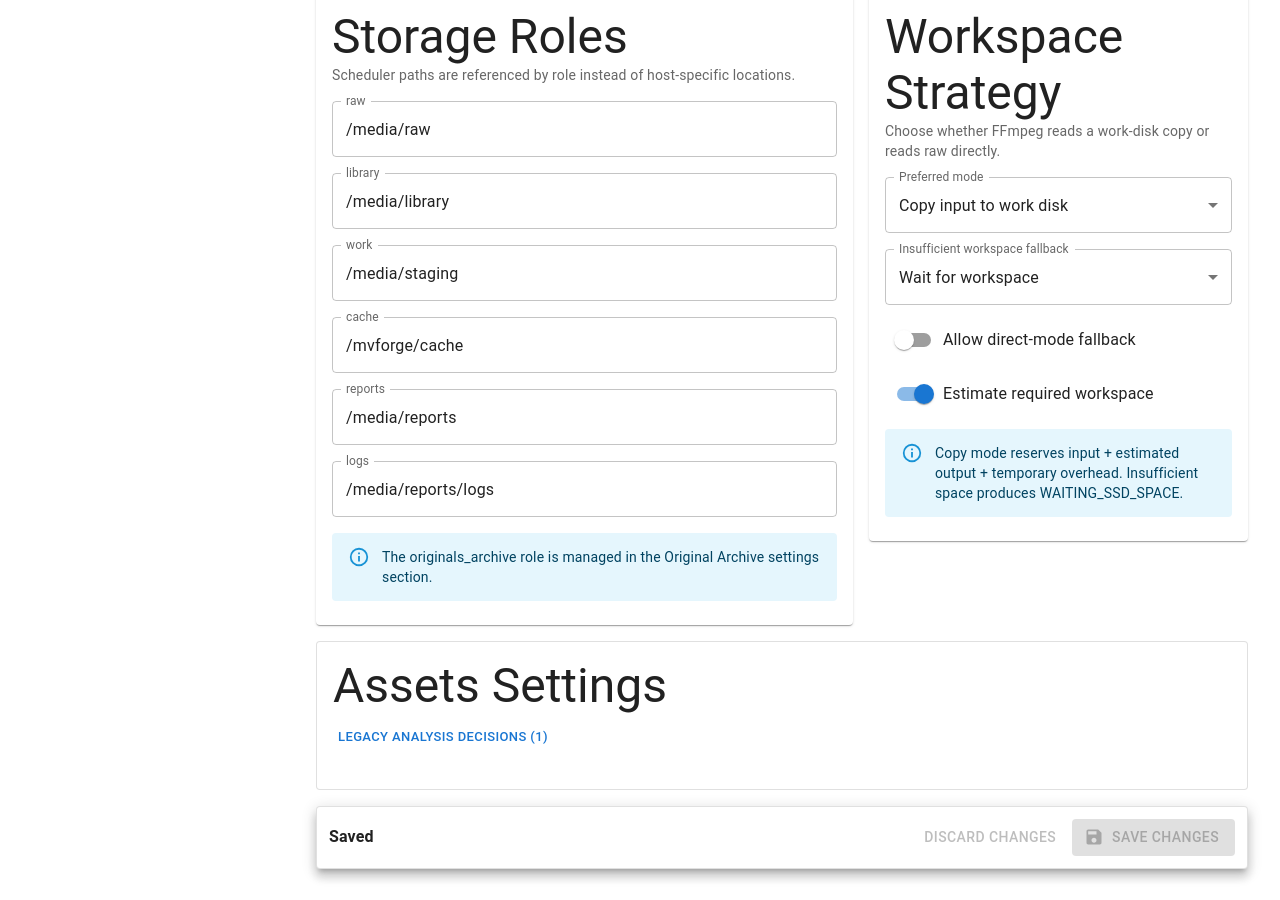
Test: Assets Settings historical analysis decisions › keeps preserved Legacy Analysis Decisions reachable under Assets Settings
(page scrolled)
Click the button "Legacy Analysis Decisions (1)" at (443,738), box left=333, top=722, right=553, bottom=753
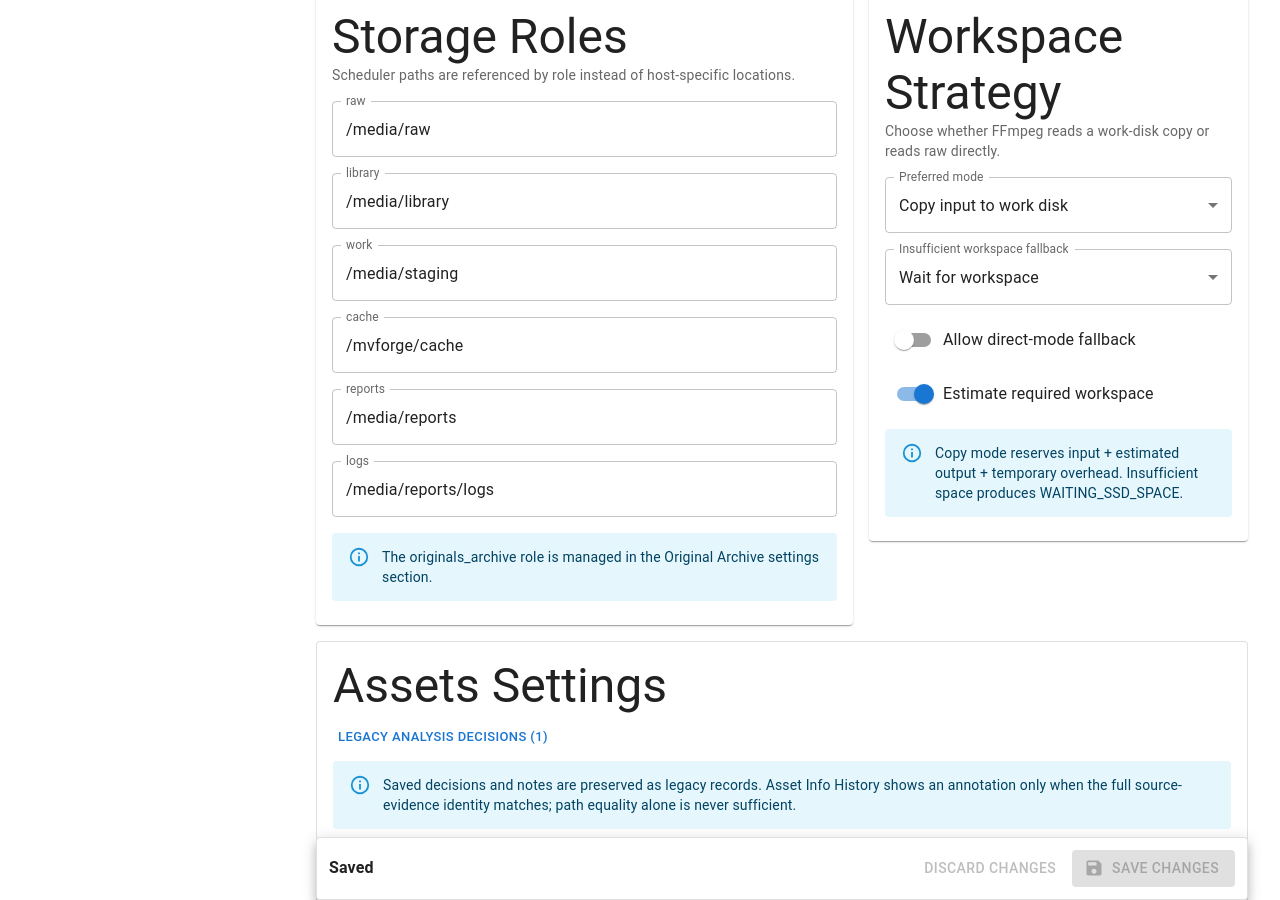
Expected: the text "Episode 01.mkv · keep" is shown, left=350, top=848, right=515, bottom=867
Expected: the text "Legacy record · /raw/Episode 01.mkv · 2024-01-01" is shown, left=350, top=872, right=670, bottom=888
